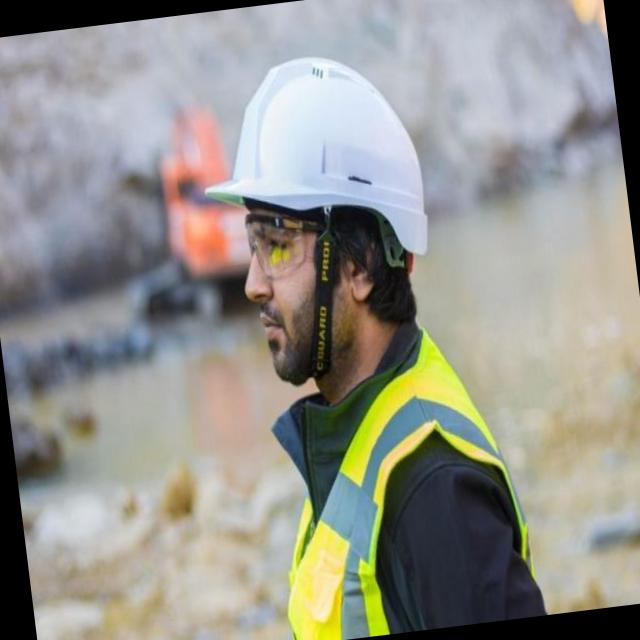Helmet: (180, 20, 447, 272)
Vest: (217, 346, 548, 640)
